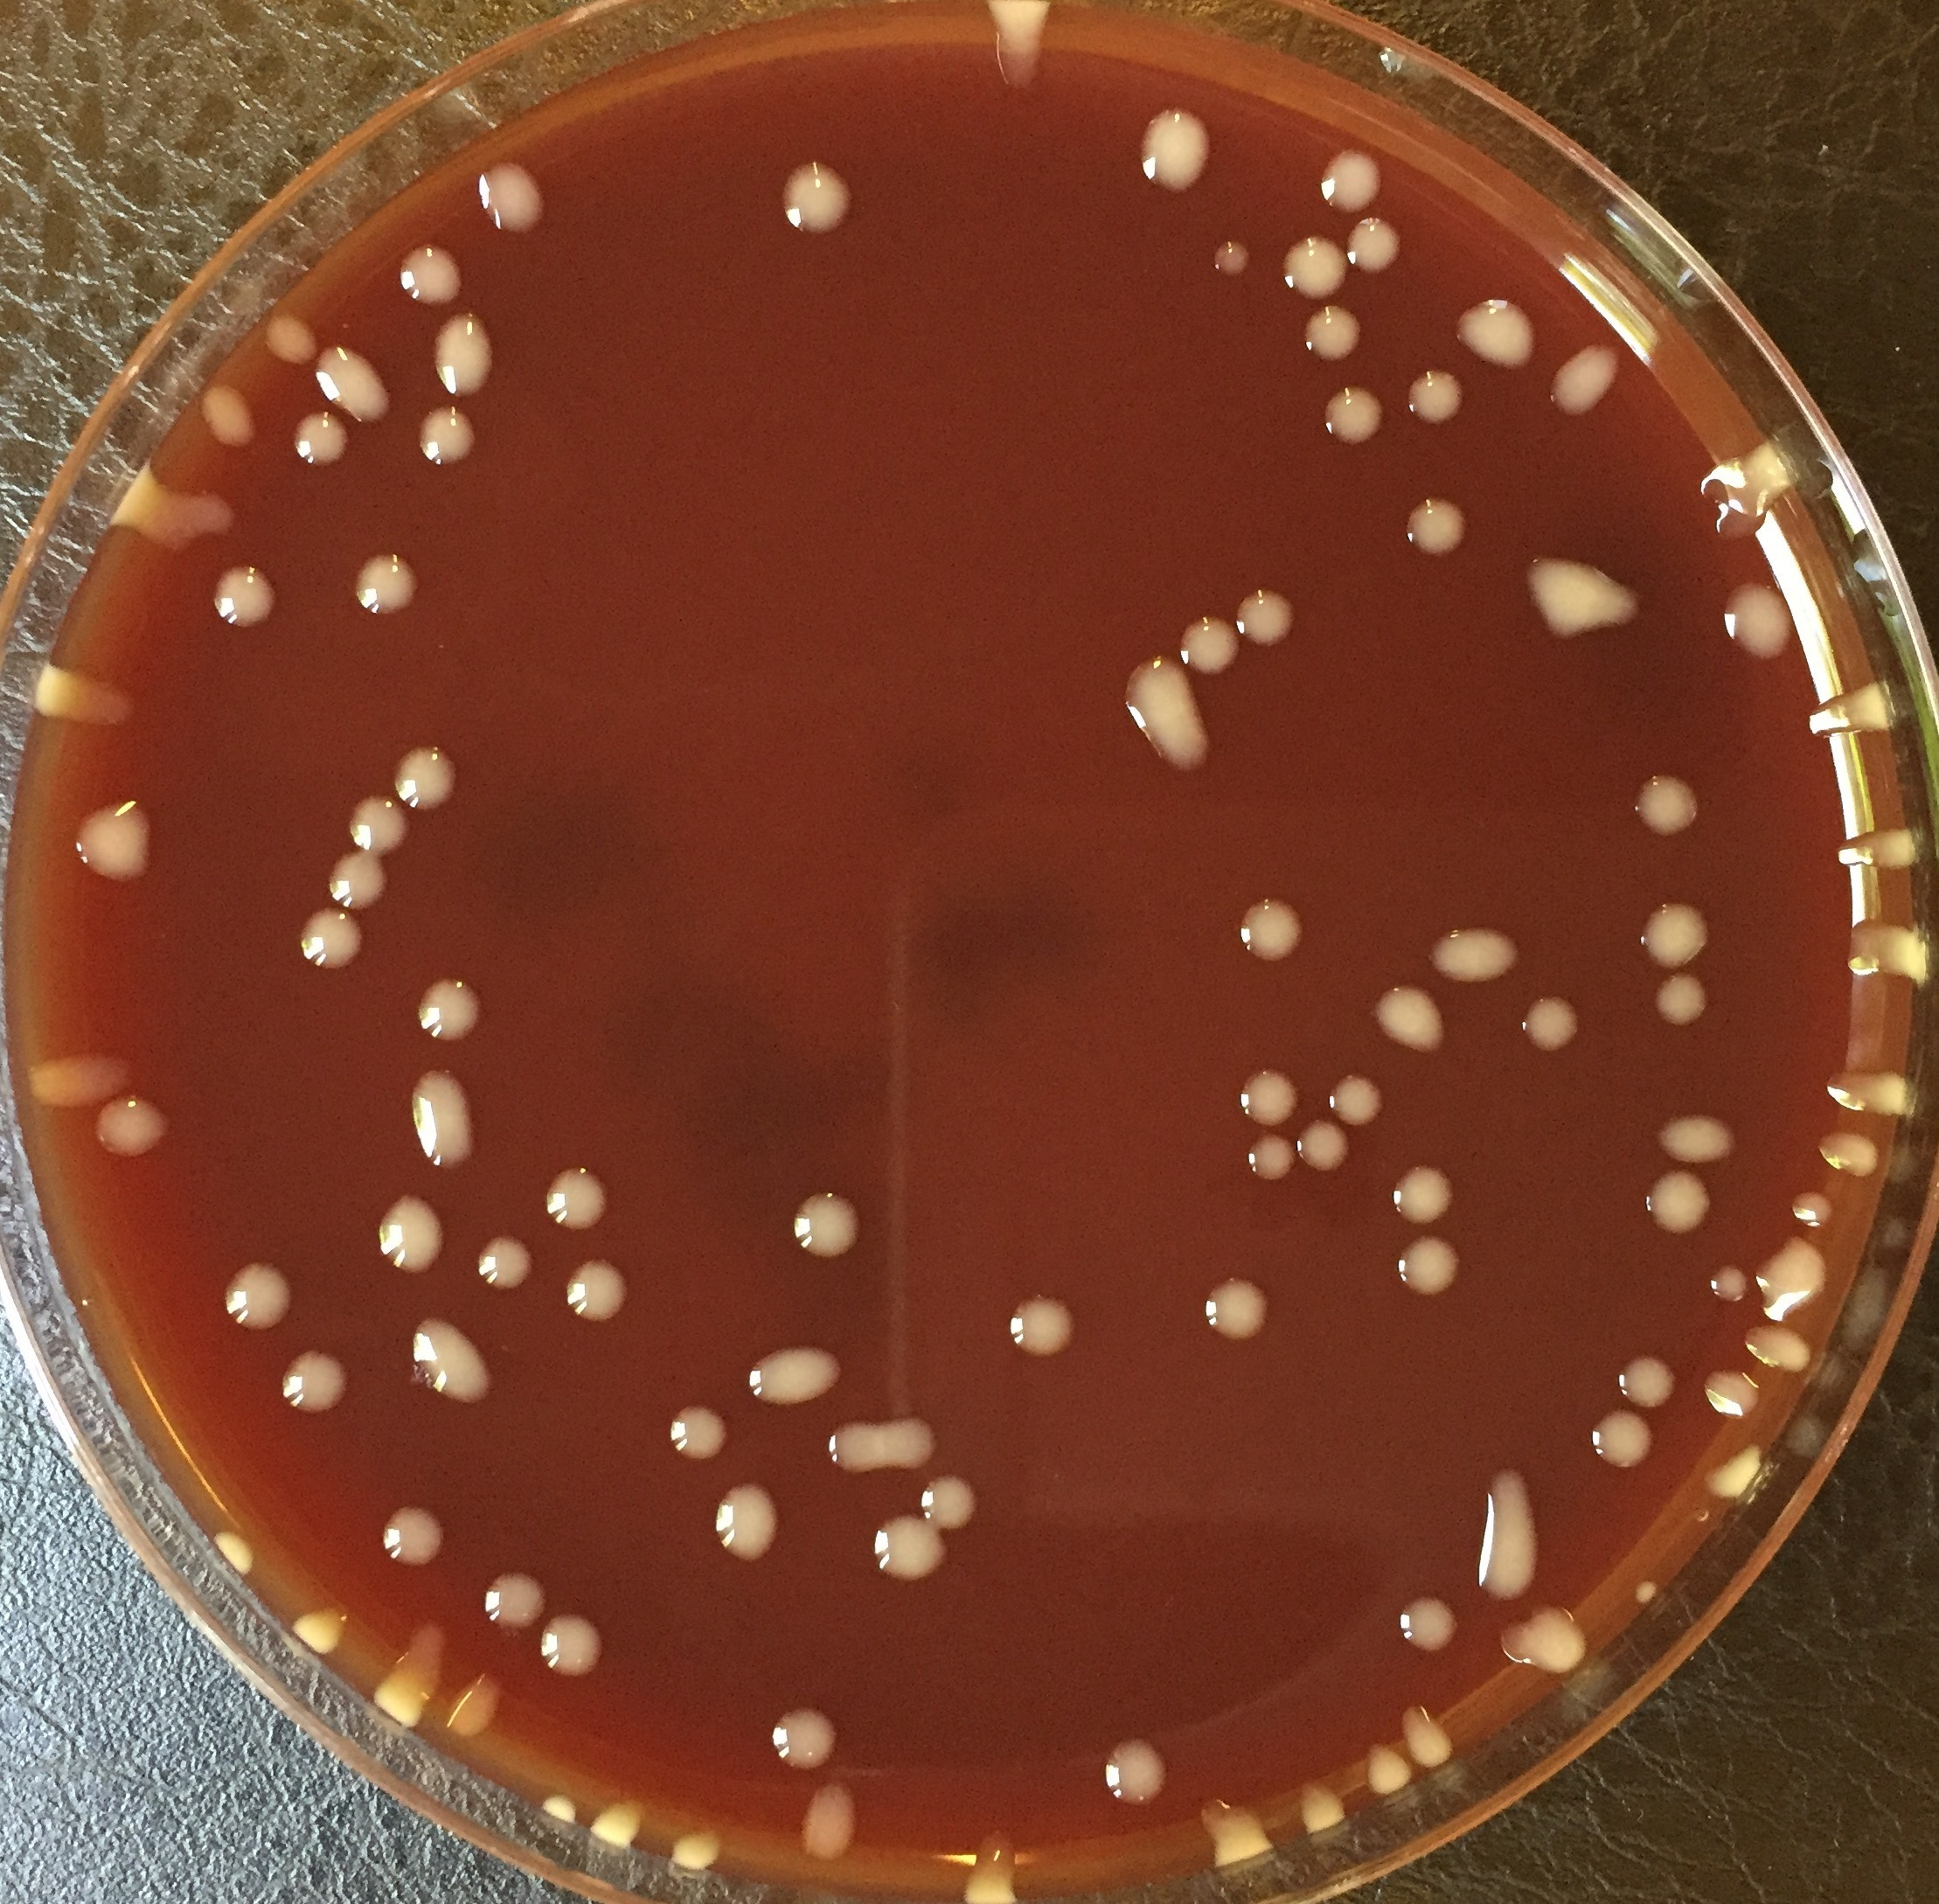sp19: (1109, 654, 1219, 781), (1515, 546, 1646, 650), (1698, 432, 1808, 549), (105, 459, 228, 553), (1470, 1463, 1547, 1606), (24, 647, 134, 746), (399, 1067, 486, 1179), (403, 1311, 497, 1411), (1716, 575, 1808, 677), (373, 1620, 453, 1731), (68, 799, 164, 889), (307, 342, 396, 439), (1801, 677, 1908, 753), (1833, 816, 1939, 893), (1451, 288, 1538, 378), (1751, 1233, 1833, 1329), (821, 1411, 940, 1475), (1135, 105, 1214, 201), (1843, 914, 1937, 990), (368, 1191, 448, 1280), (24, 1046, 139, 1107), (778, 159, 860, 244), (1632, 765, 1716, 847), (1545, 338, 1627, 420), (405, 969, 490, 1048), (96, 1093, 183, 1170), (1371, 983, 1456, 1060), (1428, 921, 1524, 989), (713, 1475, 781, 1571), (469, 160, 549, 241), (1498, 1604, 1582, 1681), (748, 1346, 847, 1411), (202, 558, 288, 631), (1231, 894, 1316, 968), (190, 375, 265, 457), (535, 1163, 617, 1238), (431, 309, 497, 401), (218, 1259, 296, 1334), (1636, 898, 1716, 971), (1390, 1153, 1465, 1229), (786, 1189, 863, 1264), (1003, 1292, 1081, 1365), (1198, 1792, 1273, 1867), (1641, 1166, 1719, 1238), (1100, 1737, 1175, 1810), (561, 1252, 635, 1327), (1651, 1107, 1744, 1166), (1824, 1064, 1918, 1121), (277, 1350, 356, 1418), (1322, 378, 1393, 452), (772, 1703, 844, 1777), (350, 549, 425, 619), (874, 1512, 949, 1581), (394, 242, 473, 309), (1400, 493, 1472, 565), (392, 743, 464, 814), (410, 401, 483, 471), (1315, 146, 1388, 216), (1737, 1320, 1820, 1381), (377, 1505, 455, 1569), (802, 1780, 860, 1867), (1393, 1234, 1466, 1302), (1337, 211, 1407, 281), (1391, 1698, 1459, 1770), (347, 790, 415, 861), (961, 1829, 1025, 1904), (295, 903, 364, 971), (1231, 586, 1303, 652), (1587, 1405, 1658, 1472), (277, 411, 352, 474), (1203, 1276, 1271, 1344), (474, 1569, 551, 1629), (1280, 232, 1346, 300), (471, 1234, 541, 1299), (1325, 1069, 1395, 1132), (1297, 296, 1360, 364), (535, 1616, 605, 1677), (1400, 363, 1466, 425), (1397, 1595, 1463, 1658), (445, 1674, 507, 1740), (1700, 1442, 1770, 1501), (1290, 1112, 1355, 1175), (1521, 992, 1587, 1053), (1815, 1125, 1881, 1186), (664, 1402, 731, 1463), (1609, 1353, 1681, 1409), (1172, 617, 1242, 673), (1240, 1065, 1303, 1126), (586, 1796, 649, 1857), (1698, 1367, 1763, 1426), (919, 1468, 978, 1533), (289, 1601, 356, 1658), (256, 310, 317, 371), (1290, 1777, 1353, 1836), (328, 851, 391, 910), (1240, 1132, 1304, 1187), (1651, 971, 1711, 1030), (202, 1522, 265, 1578), (1357, 1740, 1423, 1792), (666, 1827, 725, 1873), (1789, 1187, 1843, 1236), (535, 1789, 589, 1834), (1705, 1264, 1754, 1308), (1210, 234, 1254, 279), (1630, 1574, 1662, 1611)
